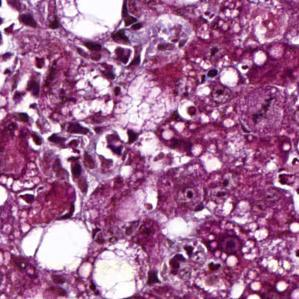ballooning: (21, 218, 94, 273), (91, 237, 154, 299), (49, 0, 128, 41)
